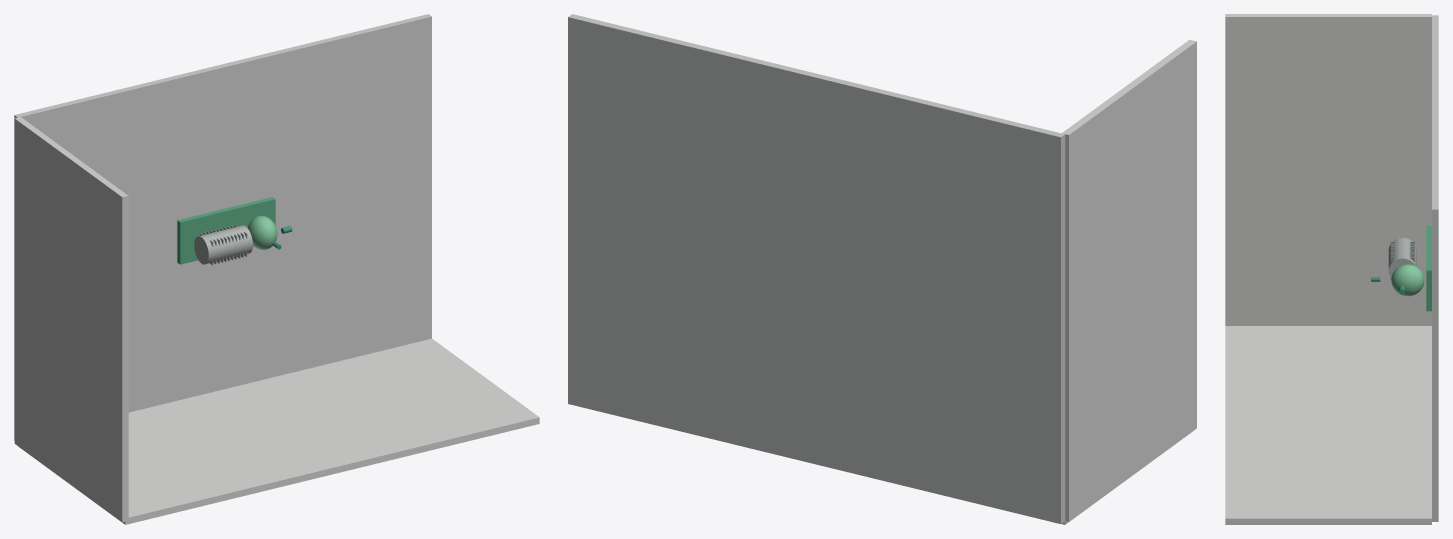
Rendered from candidate-c-coordinated.glb.
The picture shows the model from 3 angles, left to right: view 1: azimuth 30°, elevation 25°; view 2: azimuth 150°, elevation 25°; view 3: azimuth 270°, elevation 25°; orthographic projection. The views are drawn at different scales.
Parts seen in each view (by area): view 1: room_slab, back_wall, side_wall, equipment_base, motor, pump_casing; view 2: room_slab, side_wall; view 3: side_wall, back_wall, room_slab, pump_casing, motor, equipment_base.
Boxes of the visible parts, <box> form: room_slab: <box>14,14,431,440</box>; back_wall: <box>18,338,539,524</box>; side_wall: <box>14,117,128,522</box>; equipment_base: <box>177,197,275,264</box>; motor: <box>194,225,252,264</box>; pump_casing: <box>247,215,277,249</box>; room_slab: <box>568,14,1065,523</box>; side_wall: <box>1062,39,1196,521</box>; side_wall: <box>1225,14,1431,325</box>; back_wall: <box>1225,326,1431,524</box>; room_slab: <box>1432,15,1438,521</box>; pump_casing: <box>1391,264,1424,296</box>; motor: <box>1388,238,1416,277</box>; equipment_base: <box>1426,226,1431,311</box>.
Bounding box in the file's own units: 8.06 × 6.06 × 3.72.
